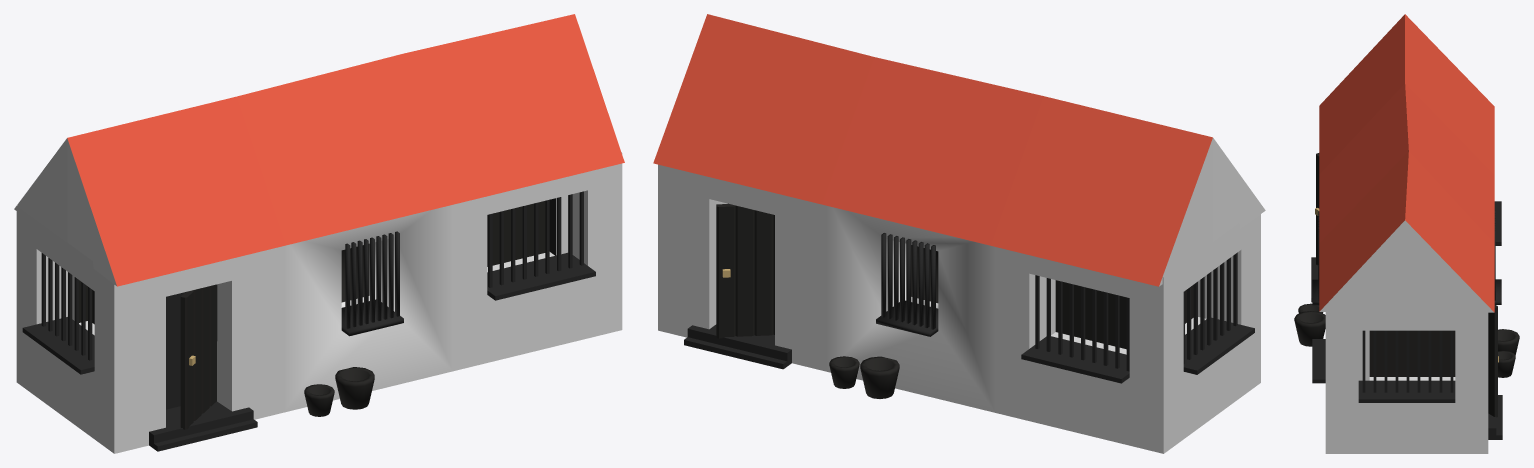
Rendered from casa procedural_relleno_4.fbx.
3 renders of one model, left to right at view 1: azimuth 30°, elevation 25°; view 2: azimuth 150°, elevation 25°; view 3: azimuth 270°, elevation 25°, orthographic. The views are drawn at different scales.
Visible parts, largest first — view 1: Procedural_Building_straight; view 2: Procedural_Building_straight; view 3: Procedural_Building_straight.
Boxes of the visible parts, x1=… form: Procedural_Building_straight: x1=14, y1=14, x2=624, y2=453; Procedural_Building_straight: x1=653, y1=14, x2=1265, y2=453; Procedural_Building_straight: x1=1294, y1=14, x2=1519, y2=453.
Size of the model in its own units: 316 by 159 by 138.
